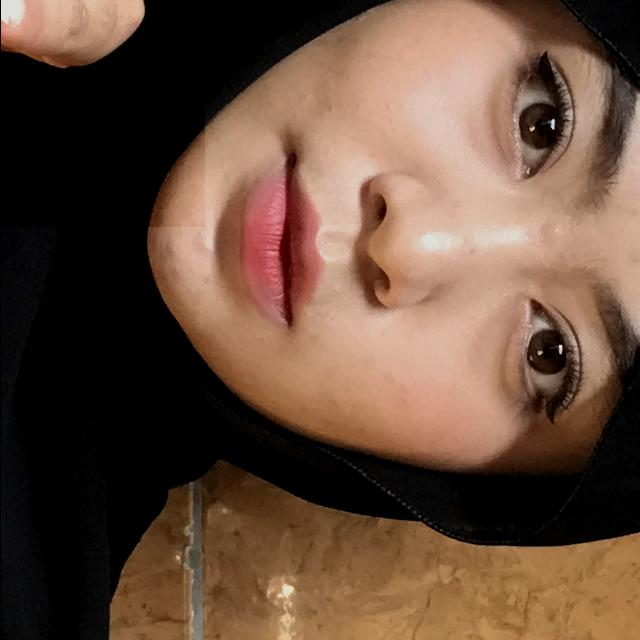kamu: (0, 0, 204, 227)
